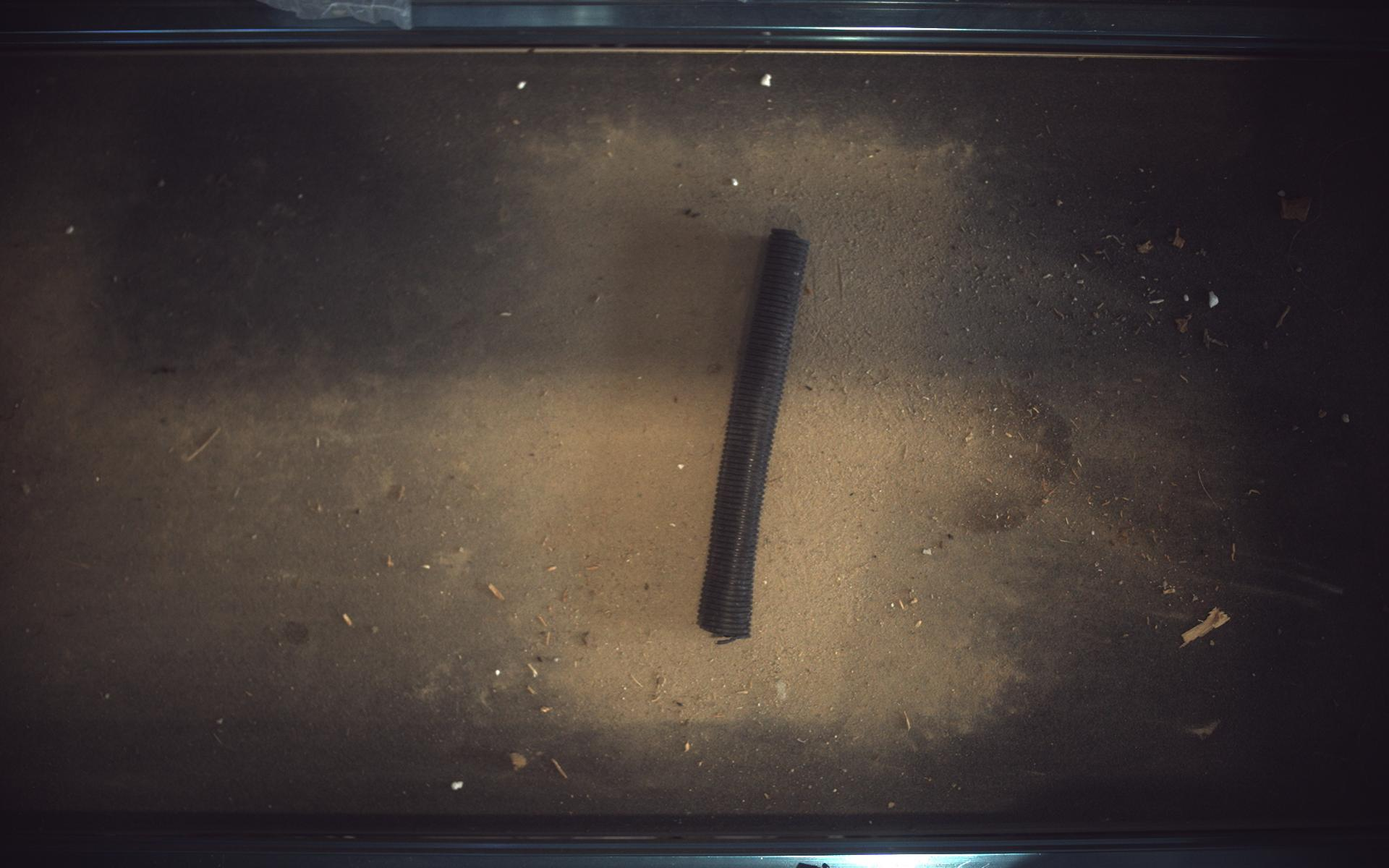pipes: (700, 228, 811, 644)
